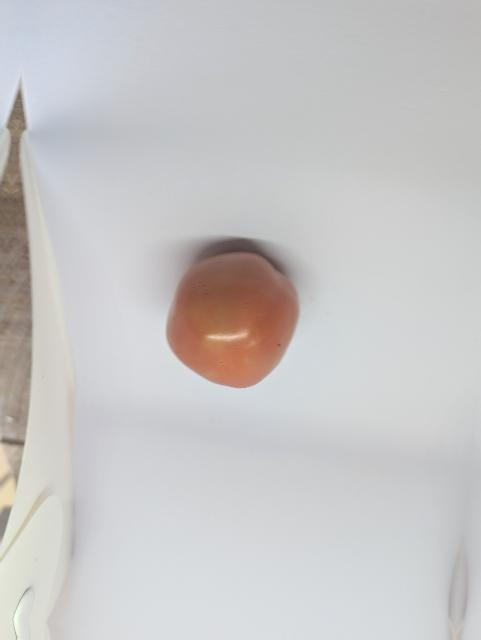red: (160, 245, 311, 396)
